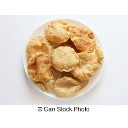poori: (72, 49, 99, 81), (52, 46, 79, 74), (28, 52, 52, 83), (27, 35, 51, 66), (69, 24, 96, 51), (46, 20, 71, 43), (54, 76, 80, 97)
